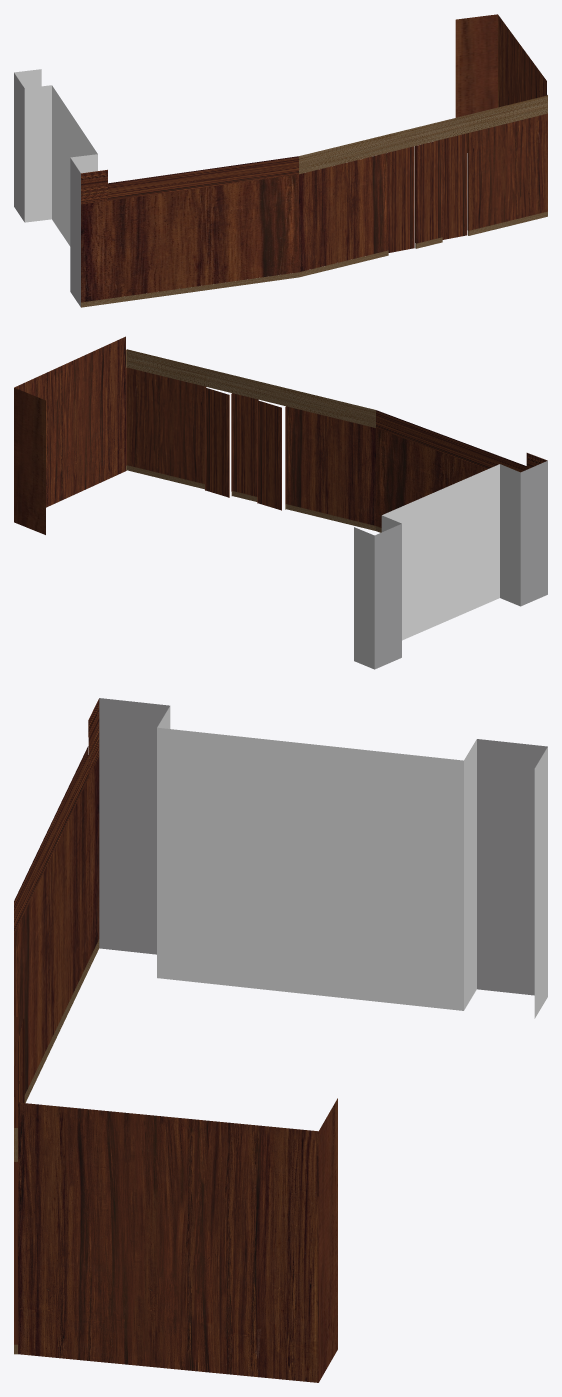
The model's file is zona_limpieza.glb.
3 renders of one model, top to bottom at view 1: azimuth 30°, elevation 25°; view 2: azimuth 150°, elevation 25°; view 3: azimuth 270°, elevation 25°, orthographic. The views are drawn at different scales.
Parts seen in each view (by area): view 1: zona_limpieza; view 2: zona_limpieza; view 3: zona_limpieza.
Part boxes in pixels (box(x1,y1,x2,y2)): zona_limpieza: box(14, 14, 547, 307); zona_limpieza: box(14, 336, 547, 669); zona_limpieza: box(14, 698, 547, 1382).
Size of the model in its own units: 64.88 by 17.58 by 33.79.
5 materials, 3 textured.
